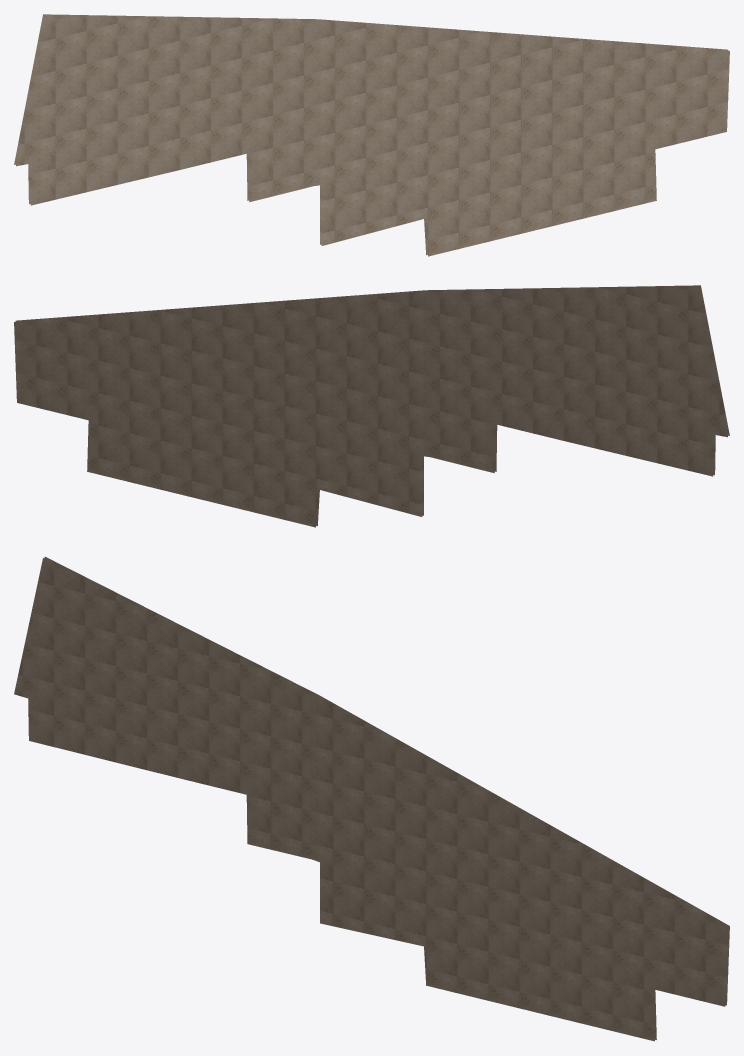
Rendered from floor_26.obj.
The picture shows the model from 3 angles, top to bottom: view 1: azimuth 30°, elevation 25°; view 2: azimuth 150°, elevation 25°; view 3: azimuth 330°, elevation 25°; orthographic projection.
Parts seen in each view (by area): view 1: floor_26; view 2: floor_26; view 3: floor_26.
Part boxes in pixels (bbox=[...]): floor_26: bbox=[14, 14, 729, 256]; floor_26: bbox=[14, 285, 729, 527]; floor_26: bbox=[14, 556, 729, 1041].
Size of the model in its own units: 23.01 by 10.29 by 0.1.
1 material, 1 textured.
